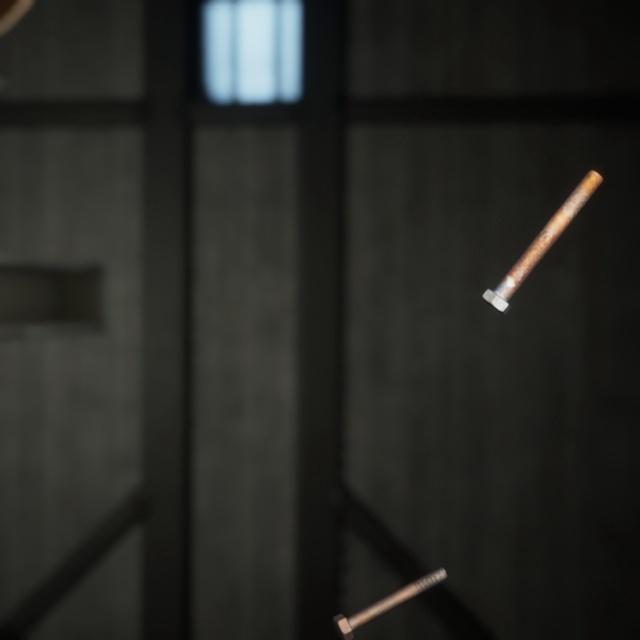bolt: (477, 149, 607, 303), (328, 540, 452, 623)
